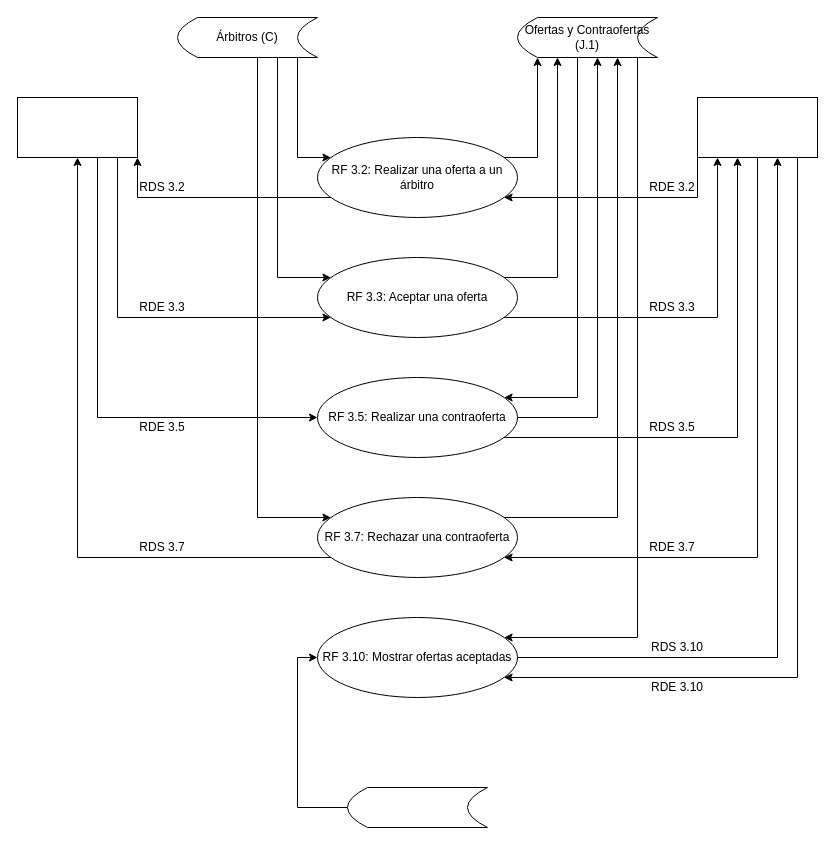
This 835x845 diagram has some shape labels left out. Here are the shapes that lost their labels. From the top down, the box of each, then its label:
(16, 96, 138, 158): Arbitro
(696, 96, 818, 158): Organizador
(346, 786, 488, 828): Ediciones (A)
